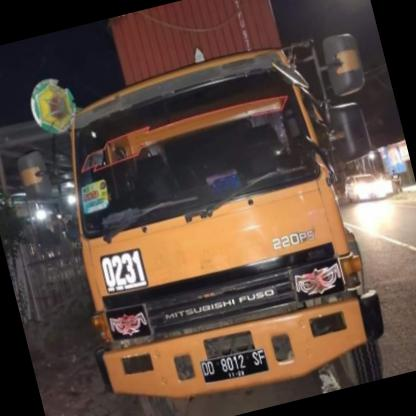truck: (37, 32, 392, 416)
